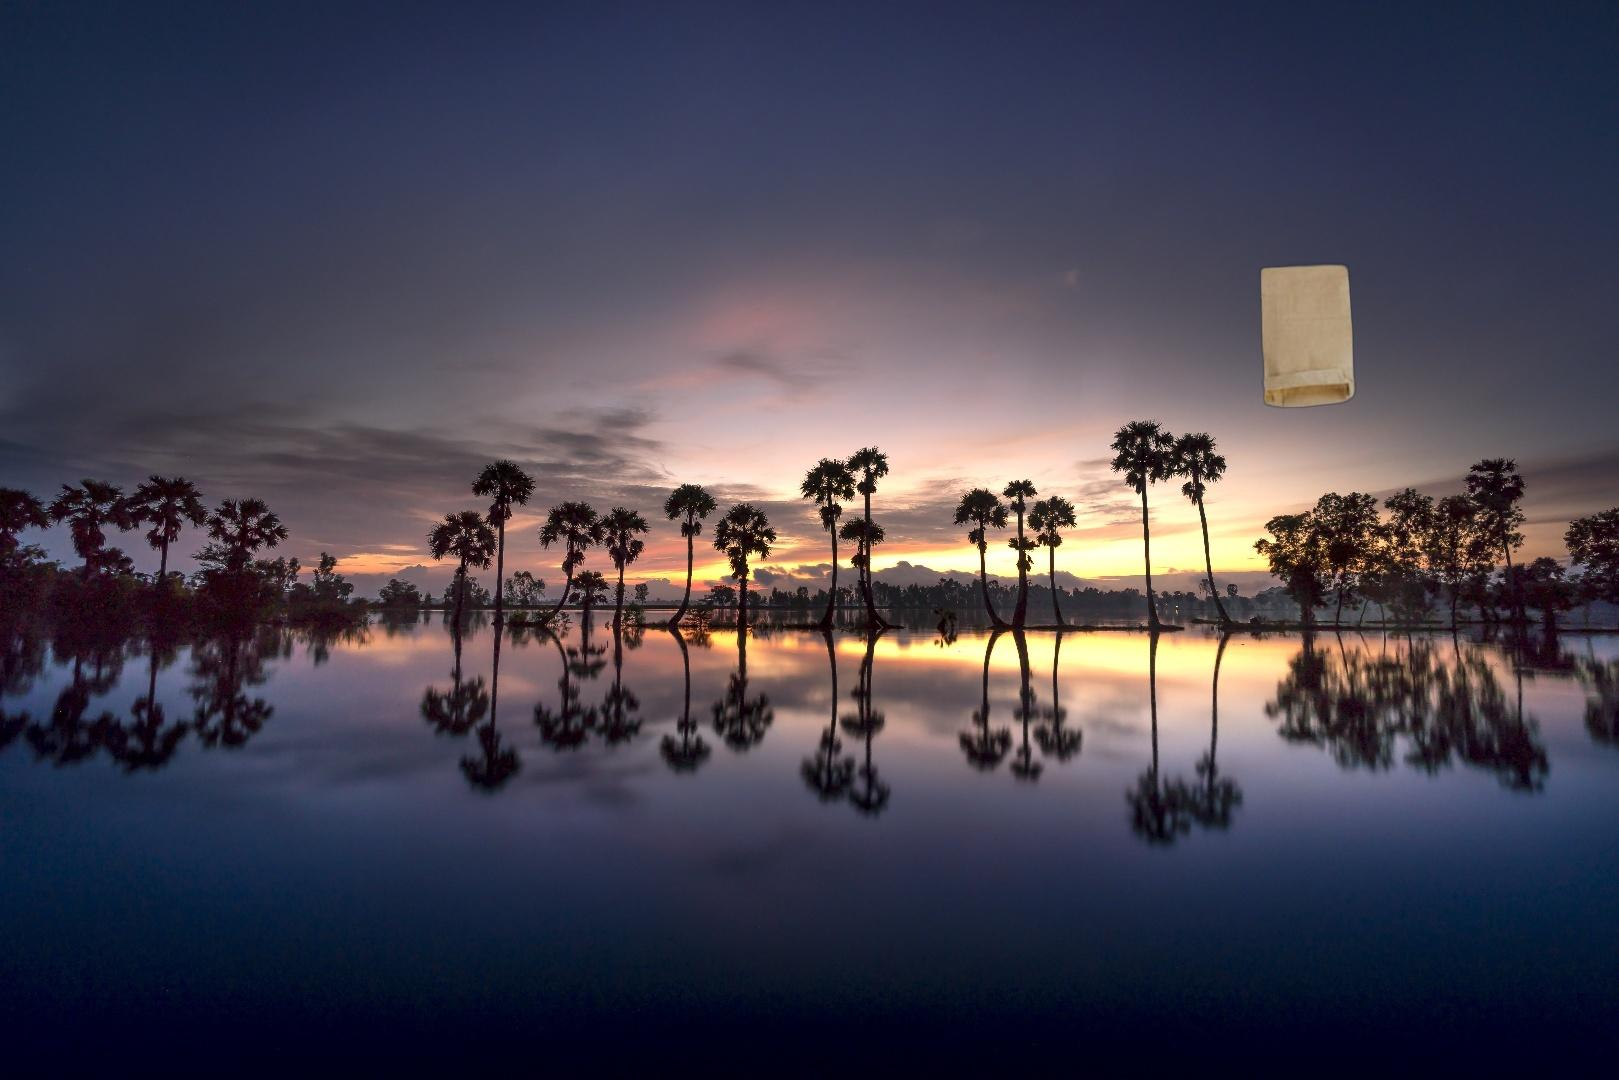paper-bag: (1257, 260, 1357, 410)
